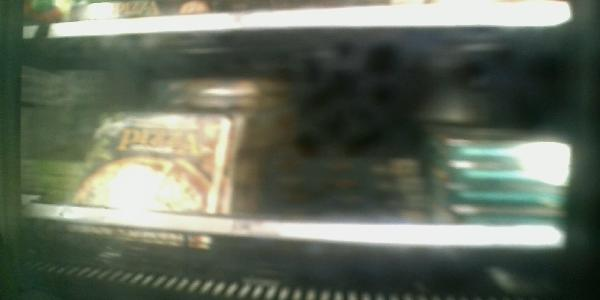pizza: (85, 112, 227, 227)
pizza1: (140, 79, 275, 116), (437, 168, 569, 199), (438, 200, 570, 229), (438, 139, 570, 167), (266, 159, 417, 179), (265, 180, 420, 199), (265, 201, 420, 215), (17, 161, 85, 183), (16, 193, 88, 209), (18, 182, 85, 195)
